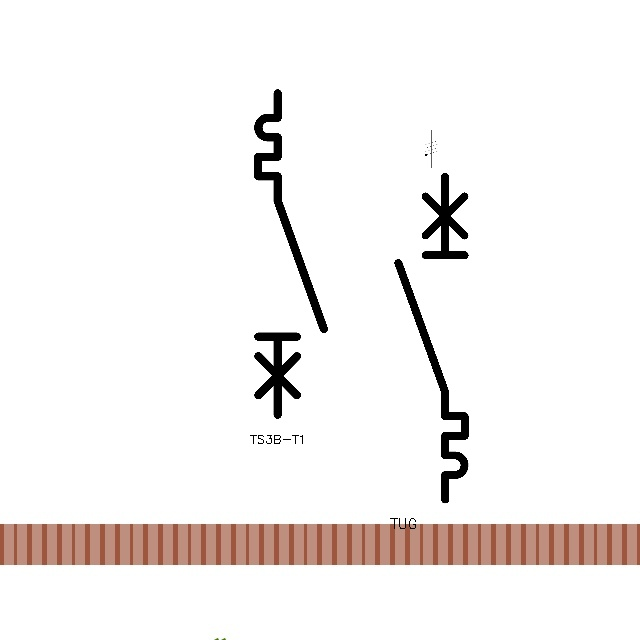interruptor_termomagnetico: (390, 168, 473, 508), (250, 85, 332, 423)
